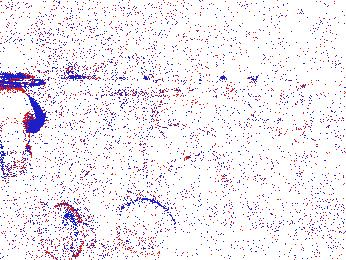flame jellyfish: (1, 82, 45, 179), (39, 202, 103, 260), (116, 198, 179, 256)
